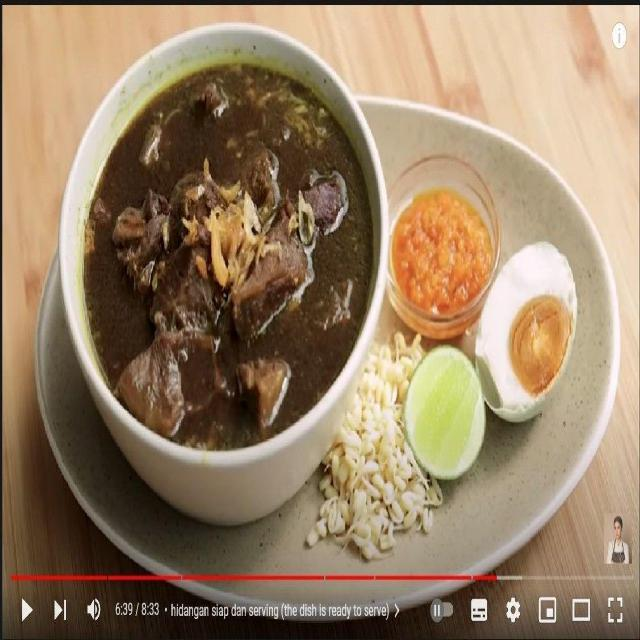Rawon: (89, 76, 357, 446)
